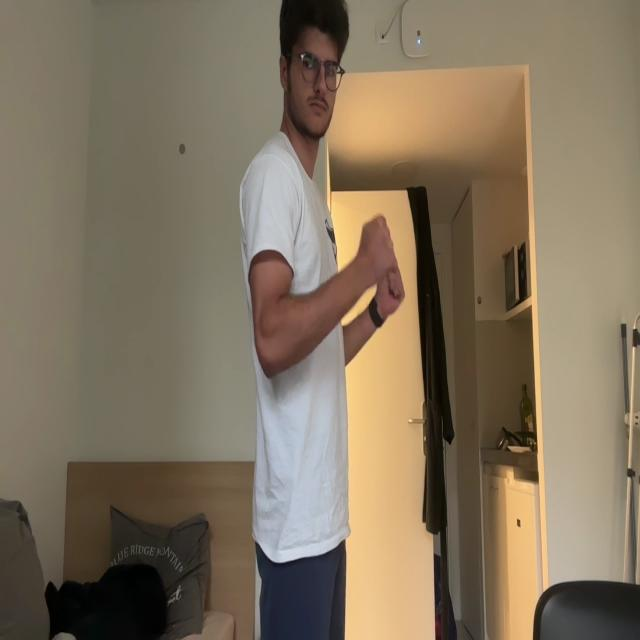elbow: (256, 294, 290, 381)
hand: (358, 217, 394, 284), (371, 258, 407, 322)
shoulder: (242, 150, 298, 244)
